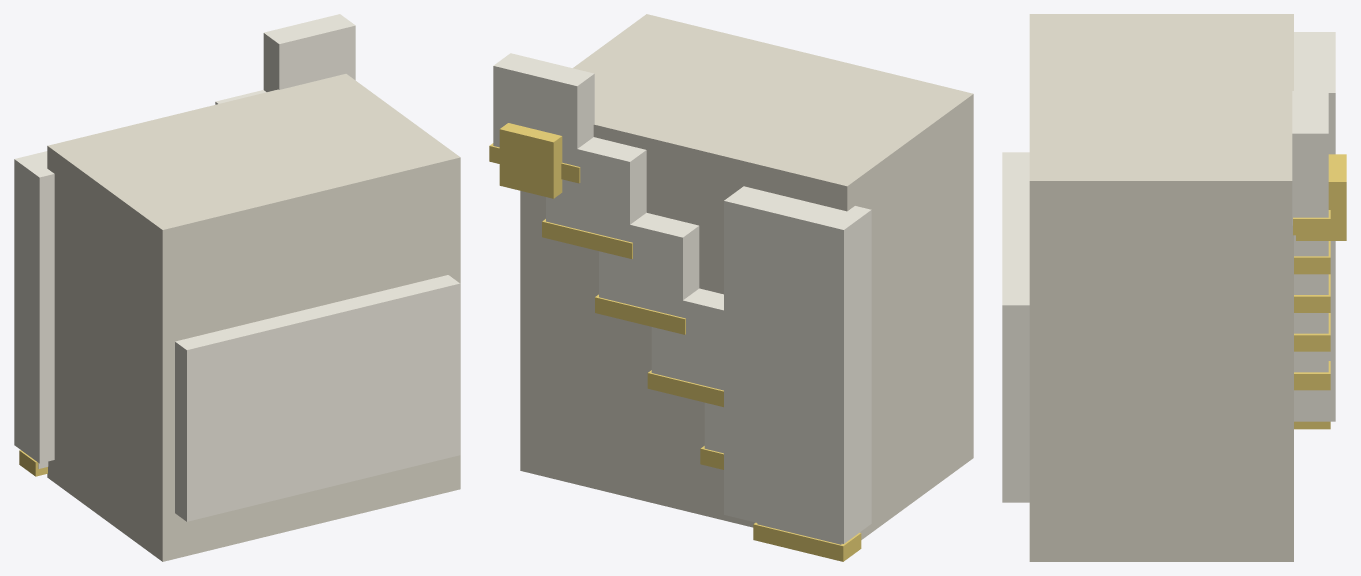
Rendered from toga_tronco.glb.
3 renders of one model, left to right at view 1: azimuth 30°, elevation 25°; view 2: azimuth 150°, elevation 25°; view 3: azimuth 270°, elevation 25°, orthographic. The views are drawn at different scales.
Visible parts, largest first — view 1: toga_tronco; view 2: toga_tronco; view 3: toga_tronco.
Boxes of the visible parts, x1=… form: toga_tronco: x1=14, y1=14, x2=460, y2=561; toga_tronco: x1=489, y1=14, x2=973, y2=561; toga_tronco: x1=1002, y1=14, x2=1346, y2=561.
Size of the model in its own units: 0.595 by 0.66 by 0.475.
